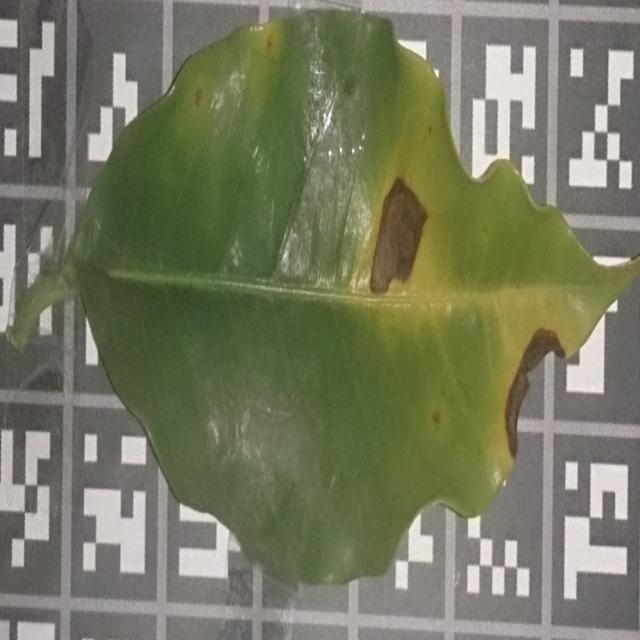Enfermedad-Mancha-de-hierro: (69, 18, 640, 589)
